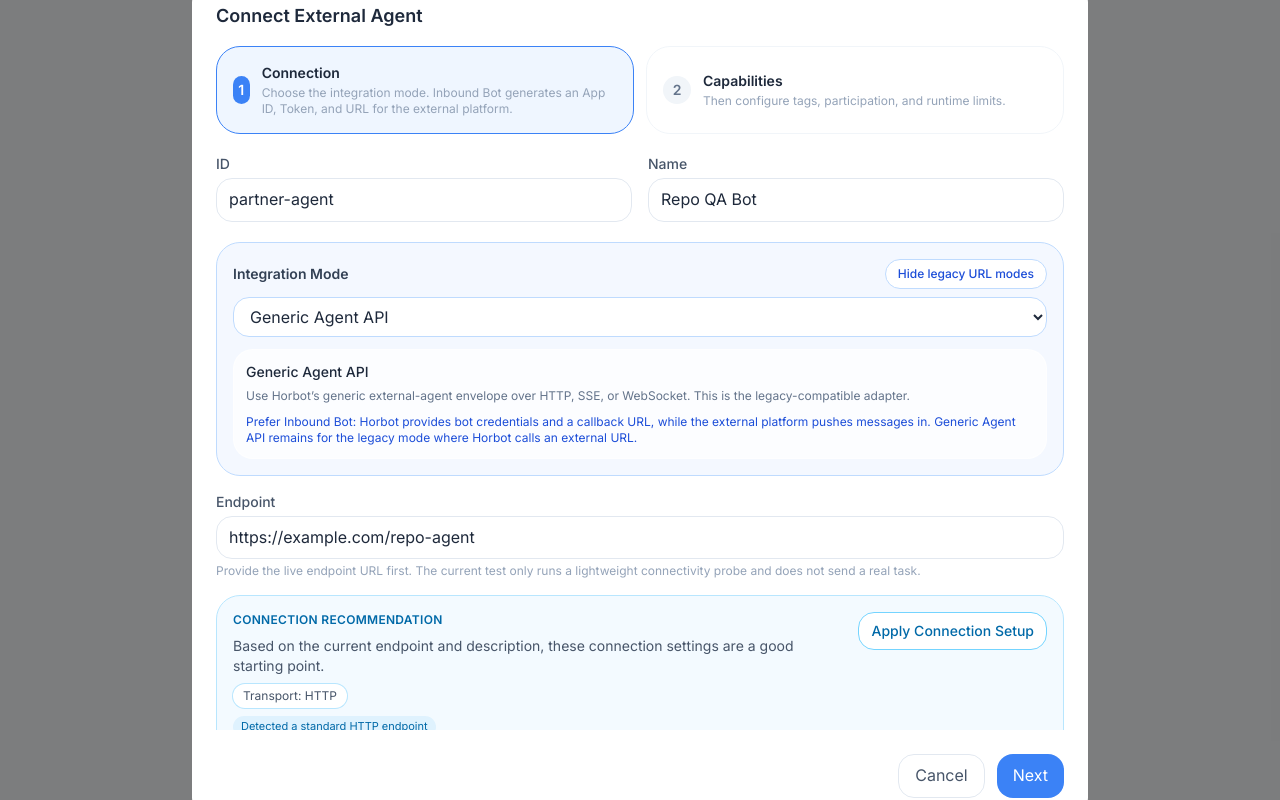
ExternalAgentFormModal › recommends a preset from description and lets users apply it directly
Click the button with test id "external-form-next". click: (1030, 776)
box: [997,754,1064,798]
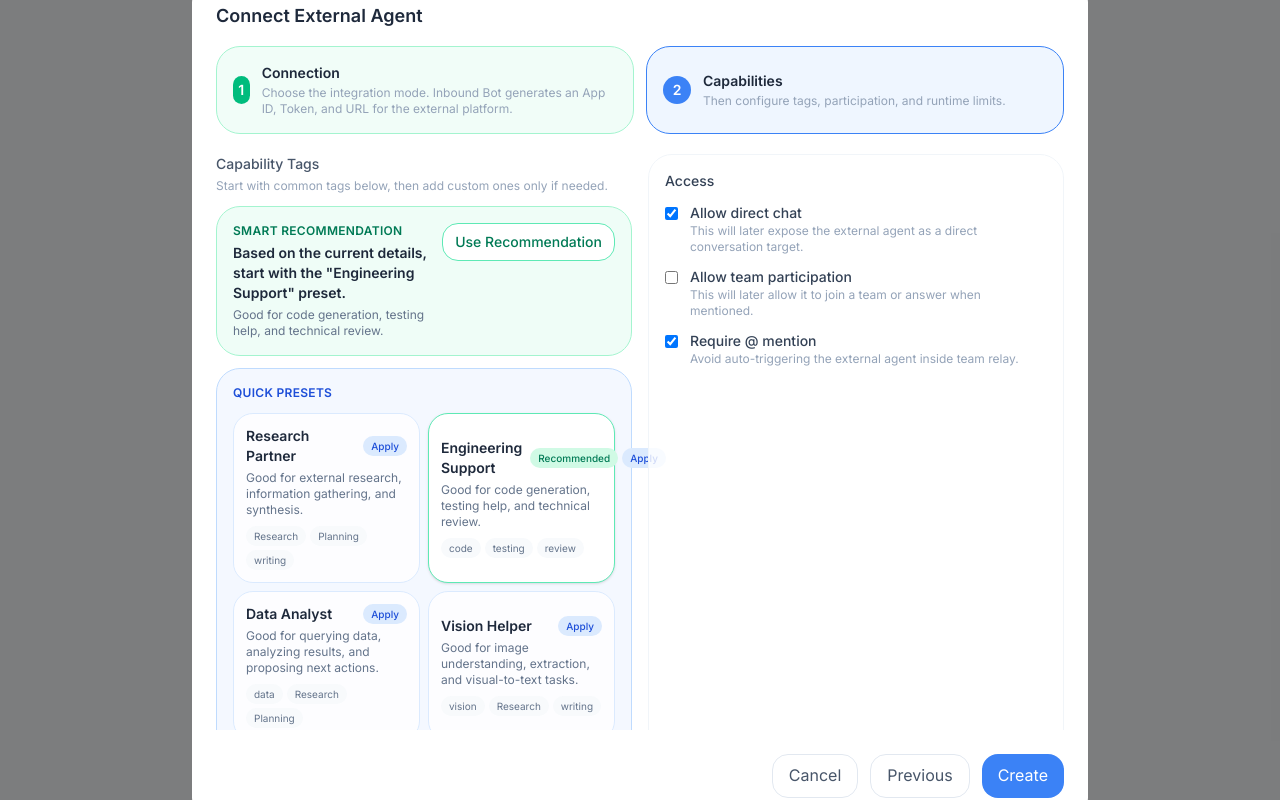
Check: the element with test id "external-capability-recommendation" shows "Engineering Support", box [233,244,427,301]
Click the button "Use Recommendation". click: (529, 242)
box: [442,223,615,261]
(page scrolled)
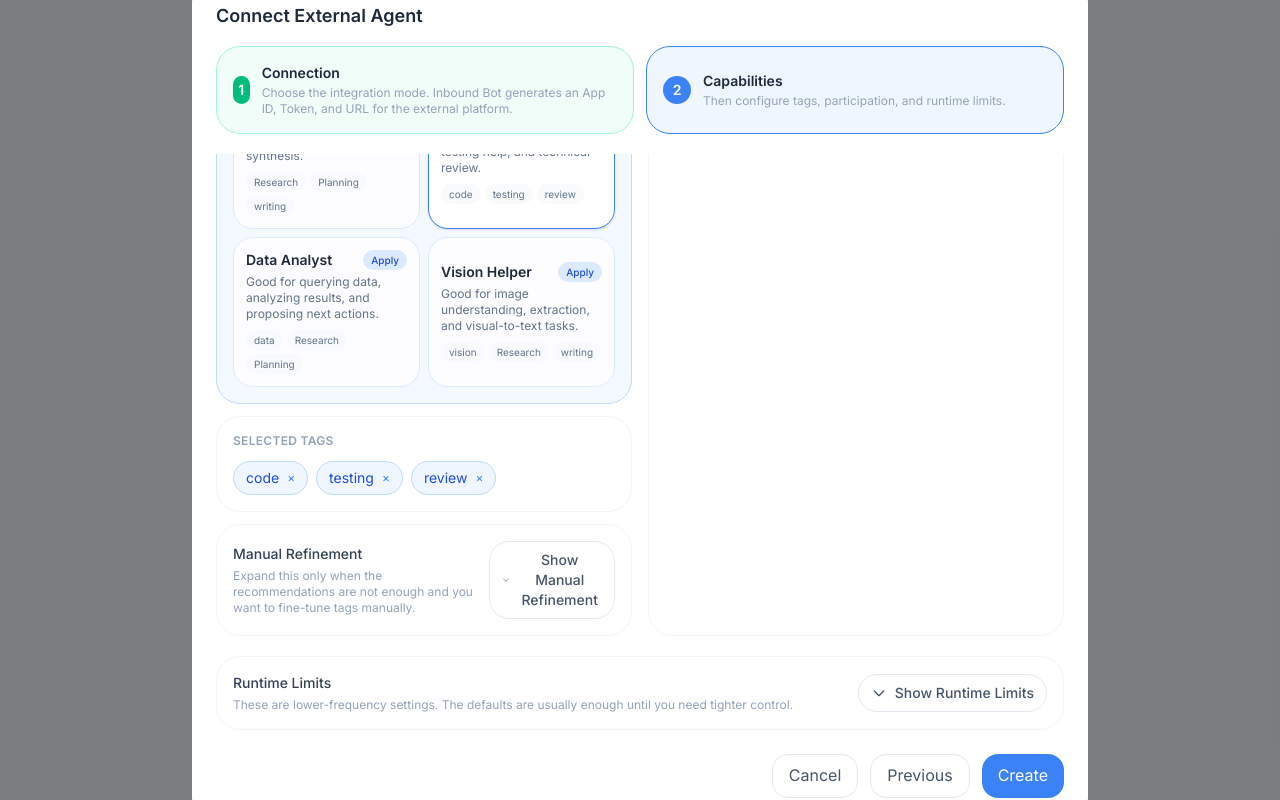
Check: the button with test id "selected-capability-code" is shown, box [233,461,308,495]
Check: the button with test id "selected-capability-testing" is shown, box [316,461,403,495]
Check: the button with test id "selected-capability-review" is shown, box [411,461,496,495]
